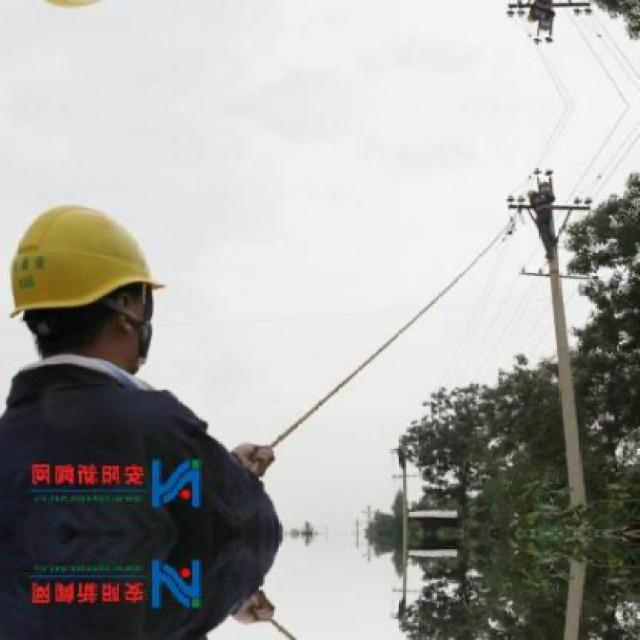helmet: (2, 177, 190, 381)
